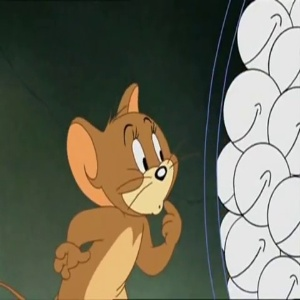Jerry: (66, 80, 181, 216)
